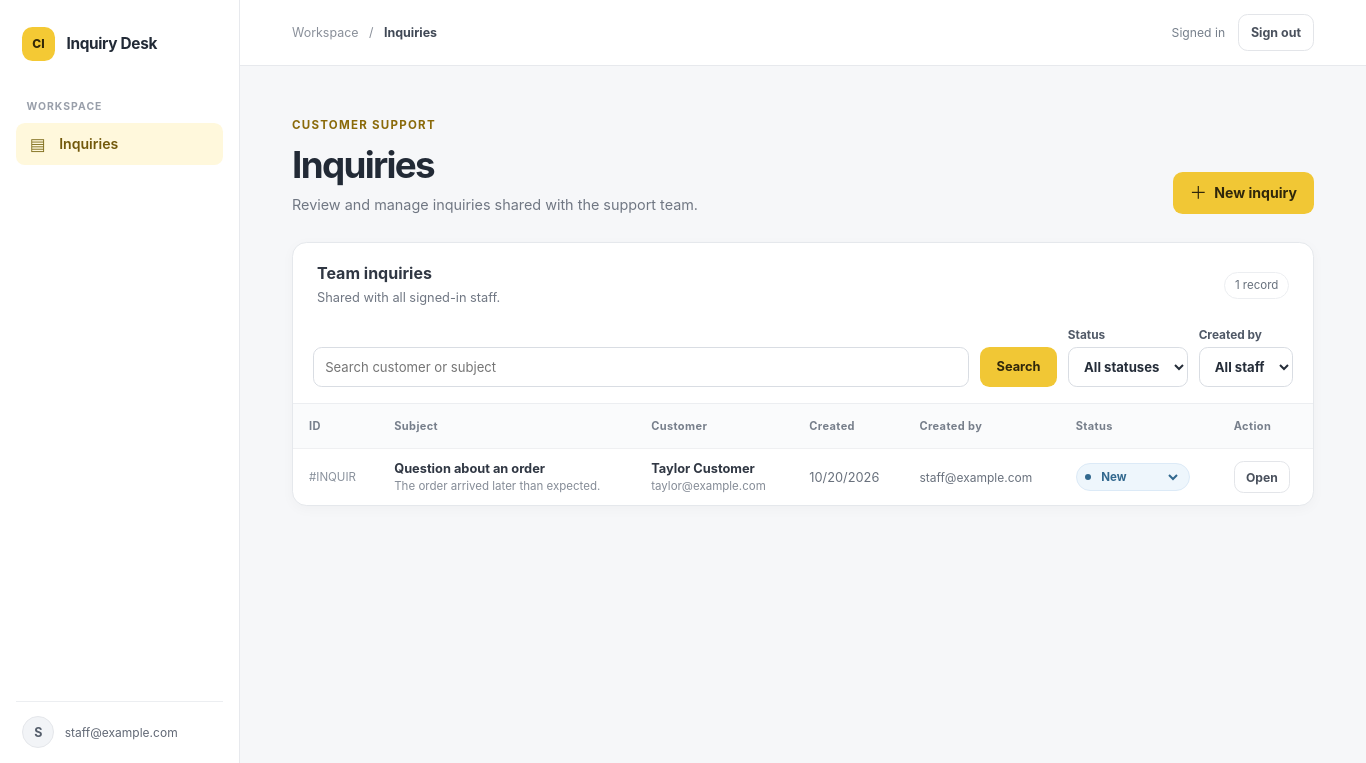
Test: App › shows API field errors and preserves values after a failed create
The image size is (1366, 763).
Expected: the text "Question about an order" is shown, [394,461,545,476]
Click the button "＋ New inquiry" at (1243, 193), box [1172,172,1314,214]
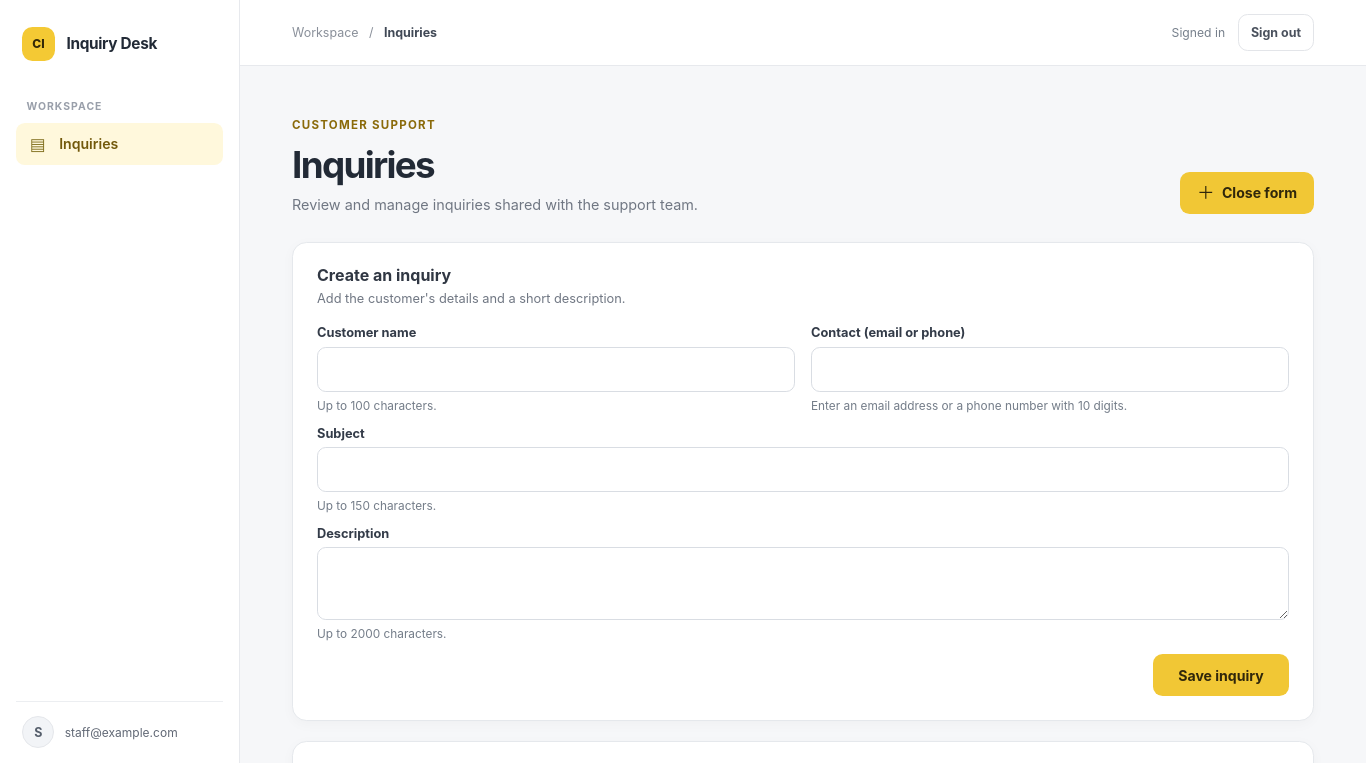
Type "Taylor Customer" into the field labelled "Customer name" at (556, 369), box [317,347,795,392]
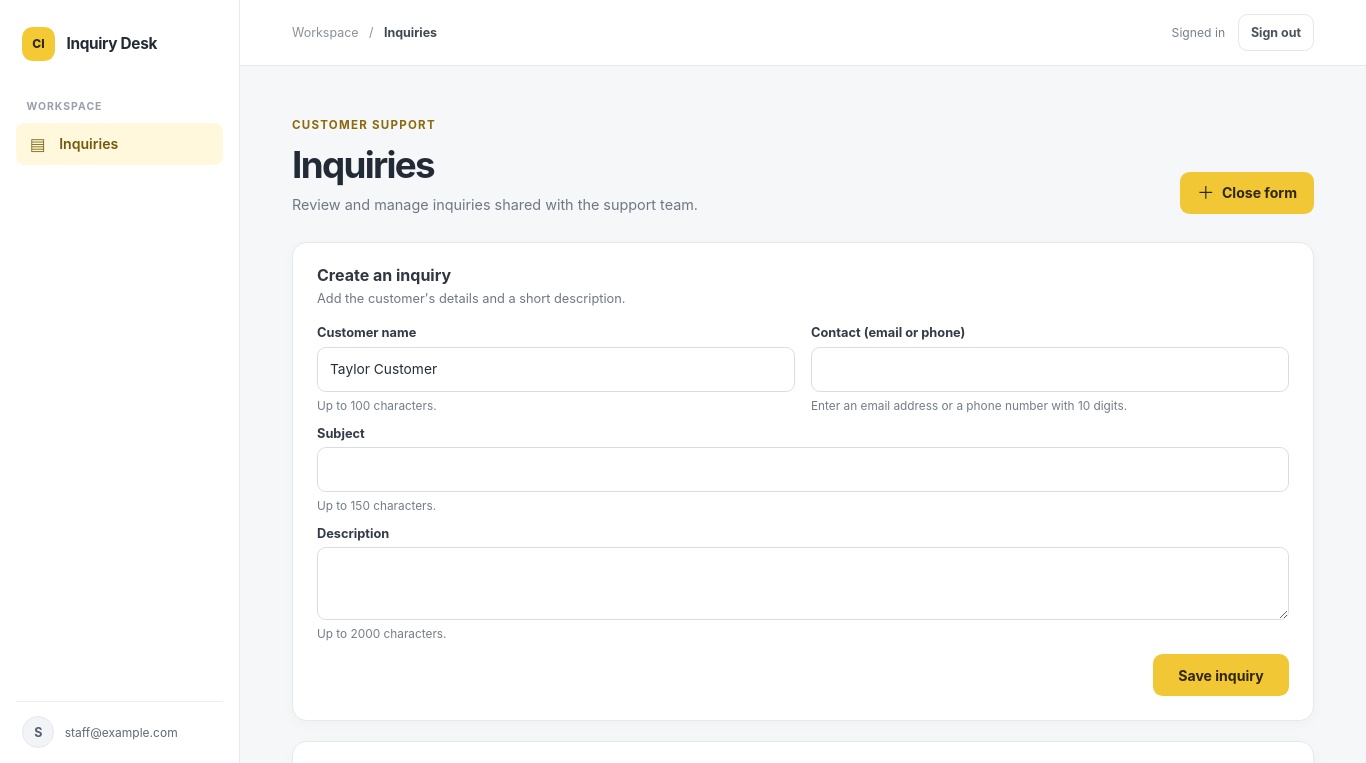
Type "taylor@example.com" into the field labelled "Contact (email or phone)" at (1050, 369), box [811,347,1289,392]
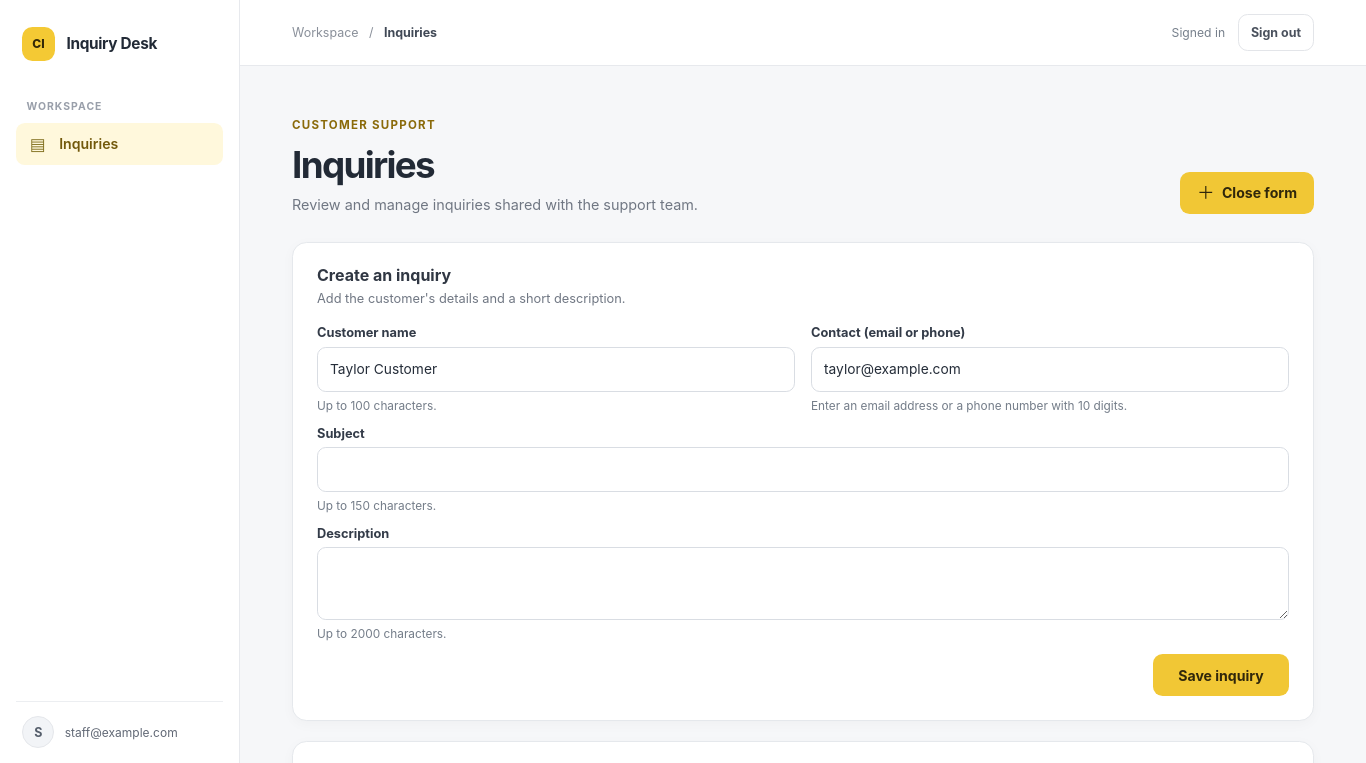
Type "Order question" into the field labelled "Subject" at (803, 469), box [317,447,1289,492]
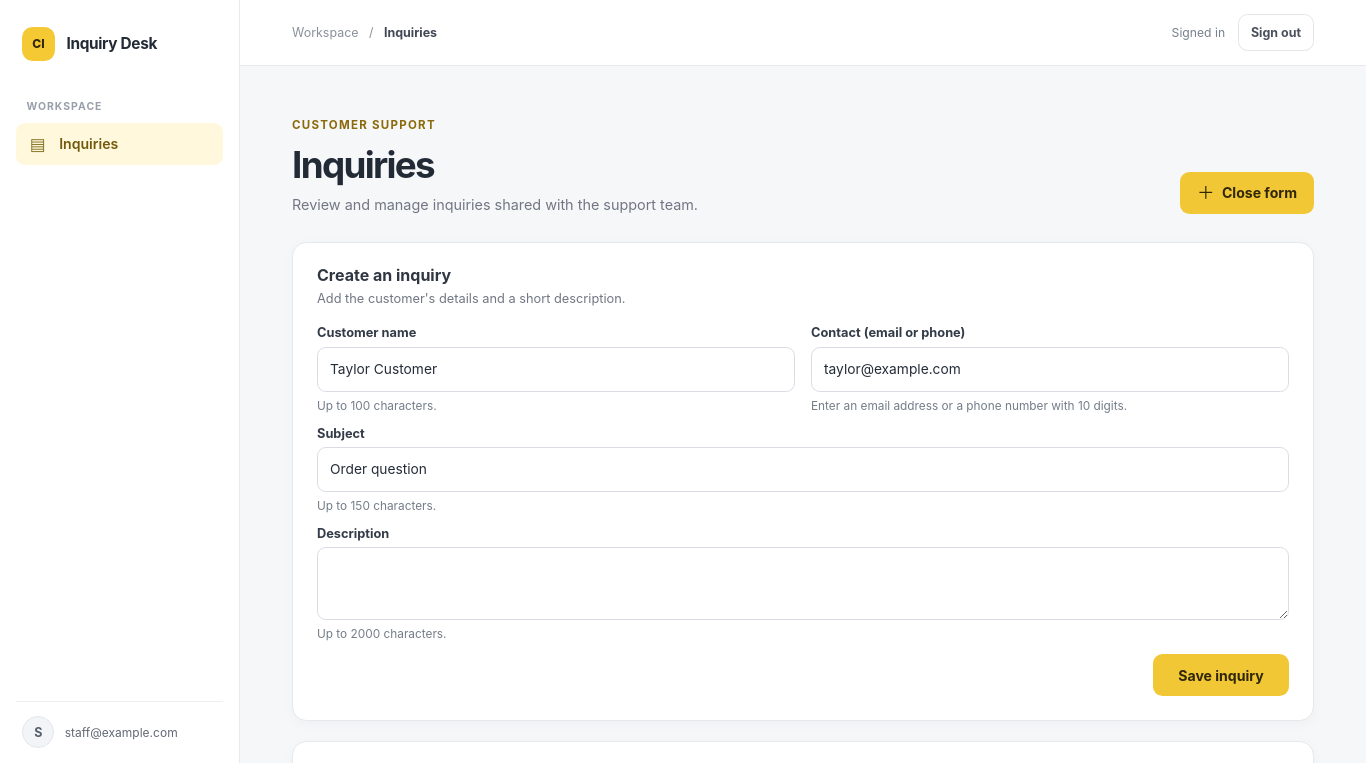
Type "Please check my order." into the text box labelled "Description" at (803, 584), box [317,547,1289,620]
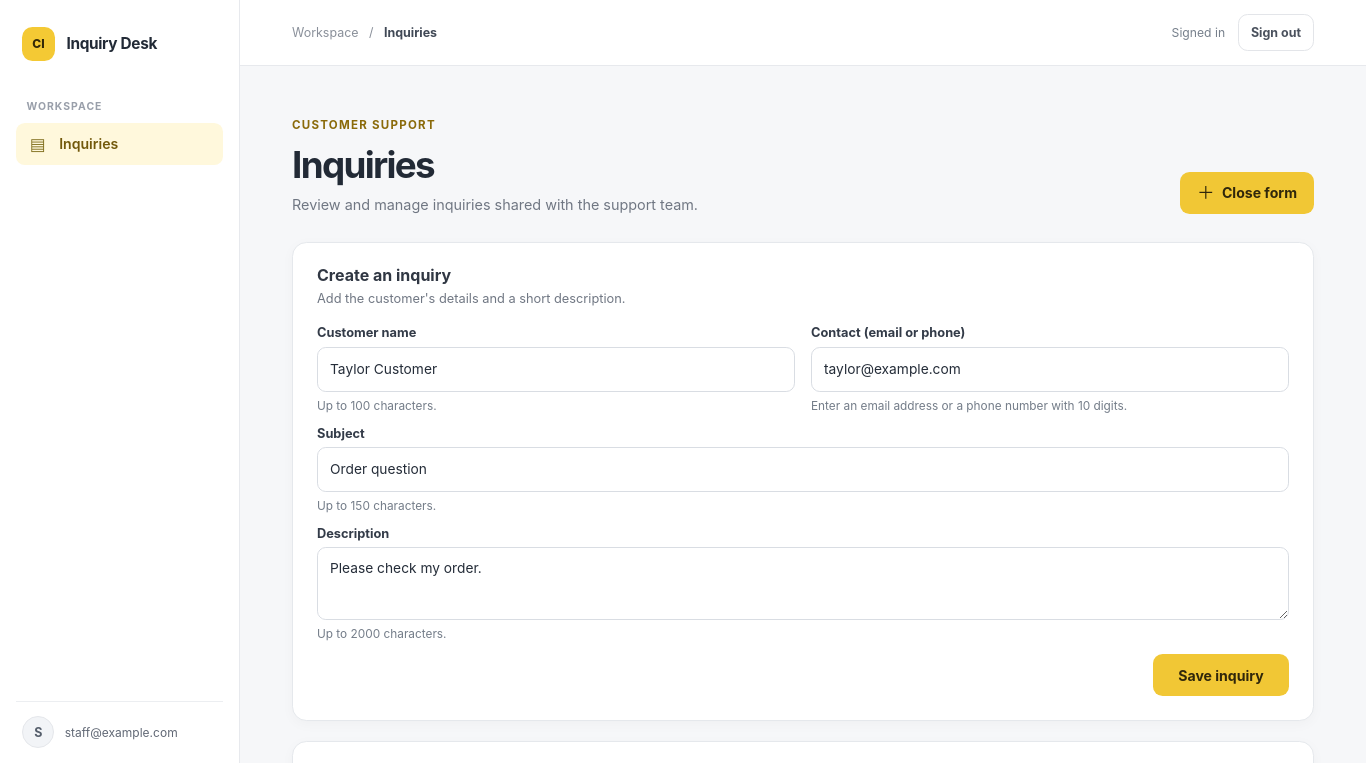
Click the button "Save inquiry" at (1221, 675), box [1153,654,1289,696]
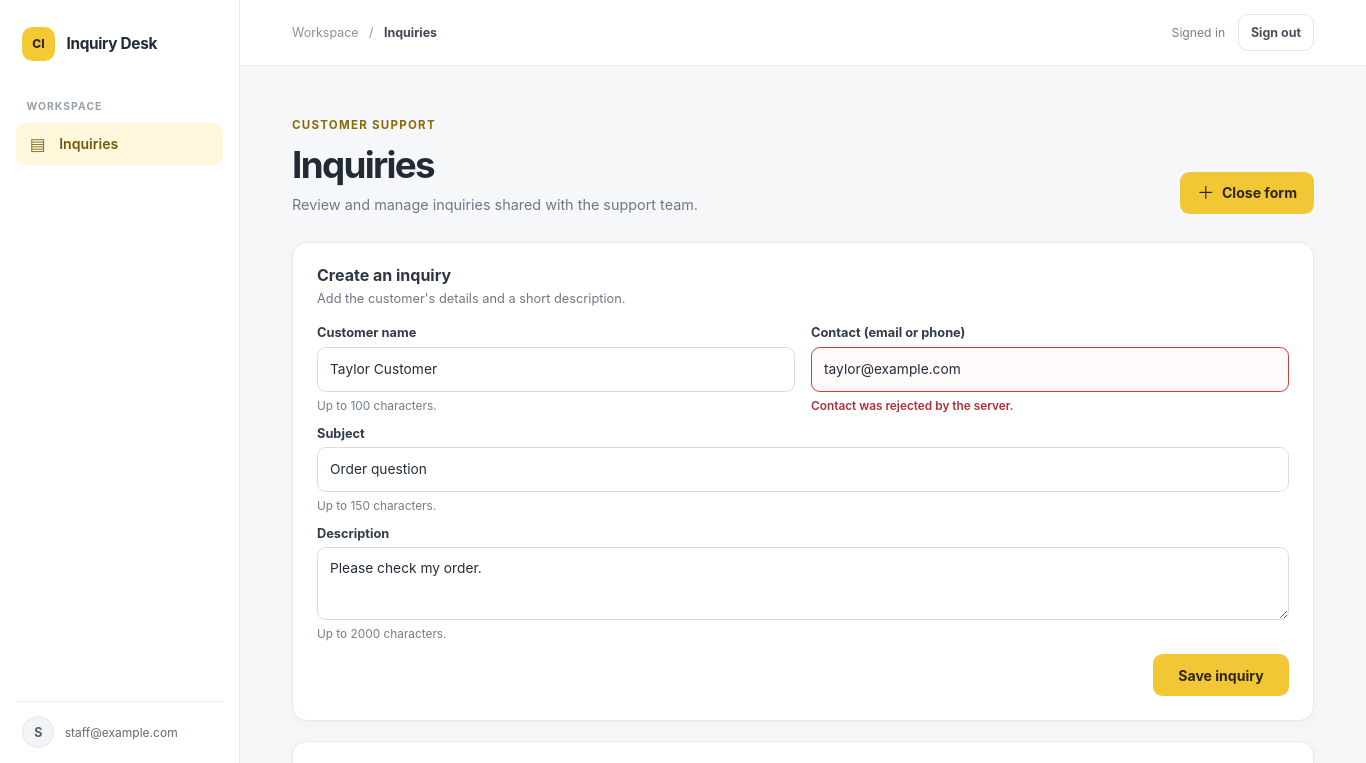
Expected: the text "Contact was rejected by the server." is shown, [811,399,1014,413]
